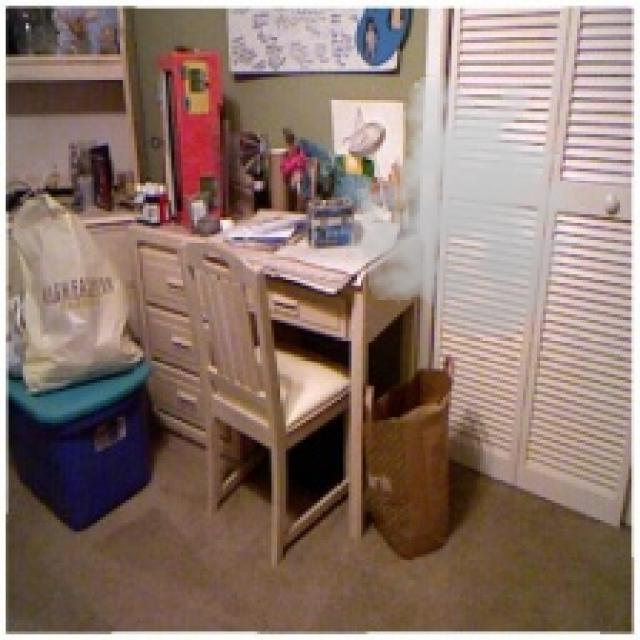smoke: (337, 71, 603, 340)
